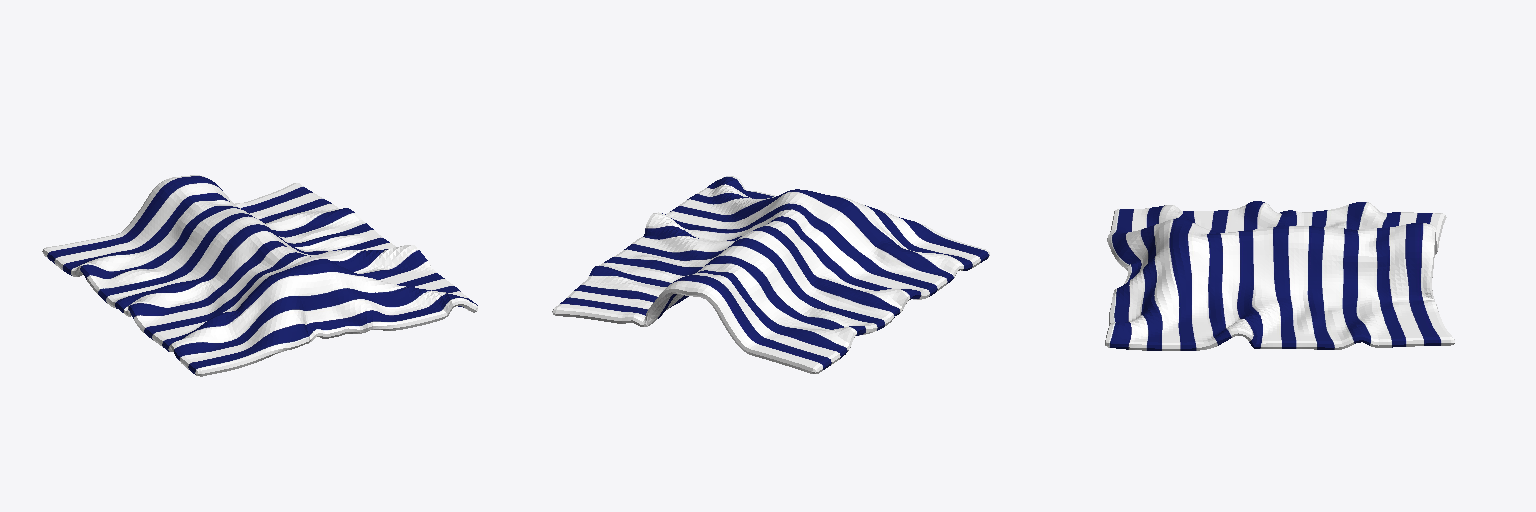
3 views of the same model, side by side, from view 1: azimuth 30°, elevation 25°; view 2: azimuth 150°, elevation 25°; view 3: azimuth 270°, elevation 25° (orthographic).
Parts seen in each view (by area): view 1: blanket; view 2: blanket; view 3: blanket.
Boxes of the visible parts, <box> form: blanket: <box>42,175,477,376</box>; blanket: <box>552,176,989,373</box>; blanket: <box>1105,201,1454,350</box>.
Size of the model in its own units: 7.33 by 1.39 by 7.89.
Materials: 1 (1 with a texture image).